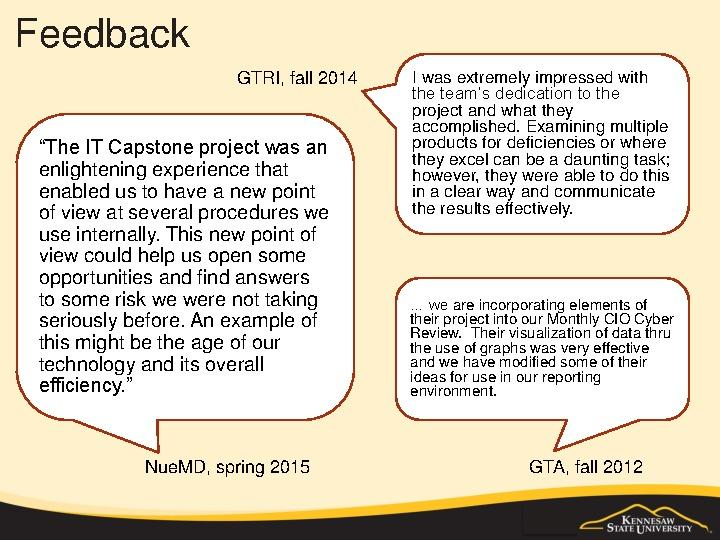paragraph: (19, 108, 360, 433), (390, 253, 700, 477), (375, 44, 690, 239)
title: (6, 7, 195, 57)
